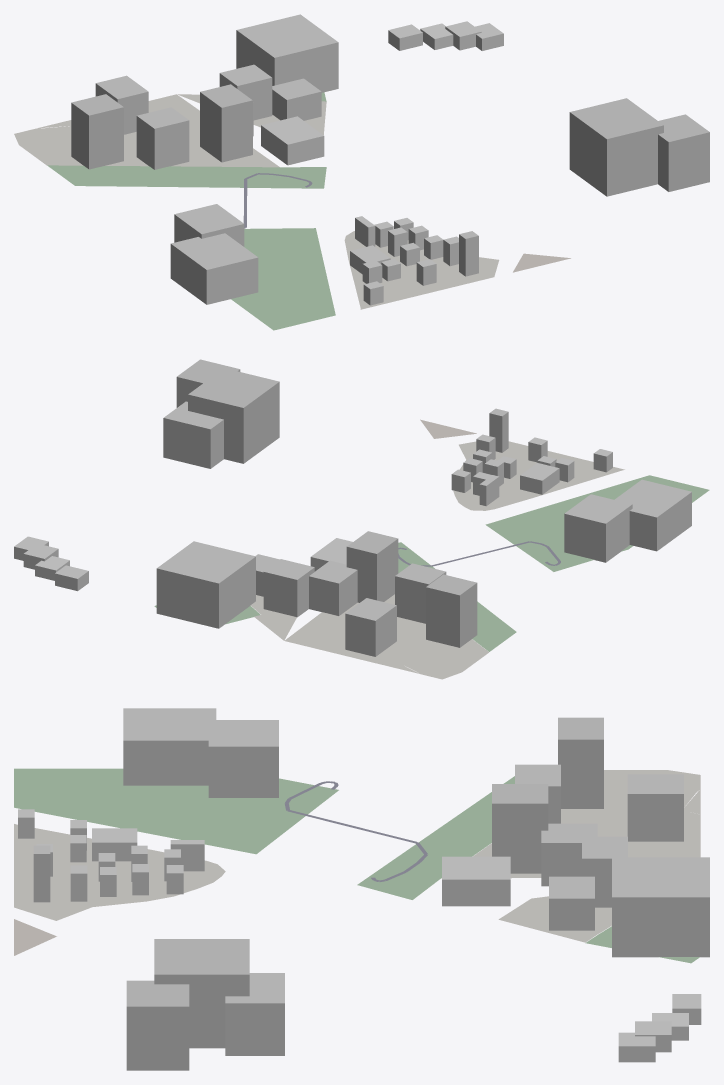
Rendered from 112_112_mid.glb.
3 renders of one model, top to bottom at view 1: azimuth 30°, elevation 25°; view 2: azimuth 150°, elevation 25°; view 3: azimuth 270°, elevation 25°, orthographic. The views are drawn at different scales.
Size of the model in its own units: 544 by 59.99 by 507.
